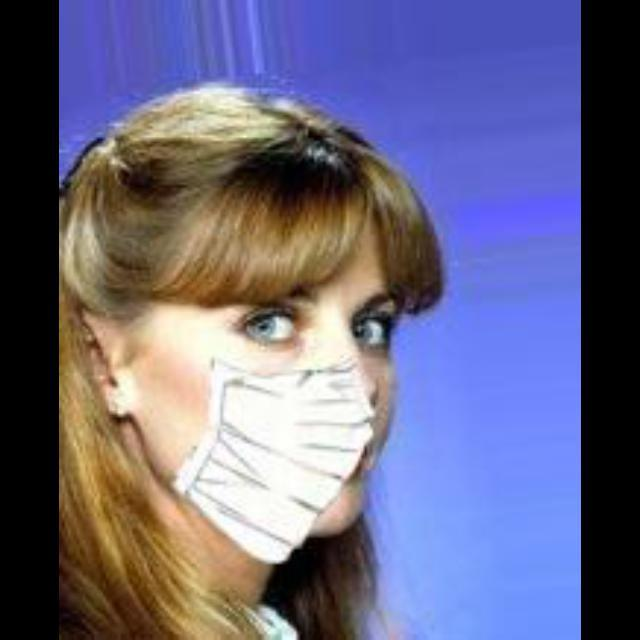suspicion: (160, 141, 480, 563)
